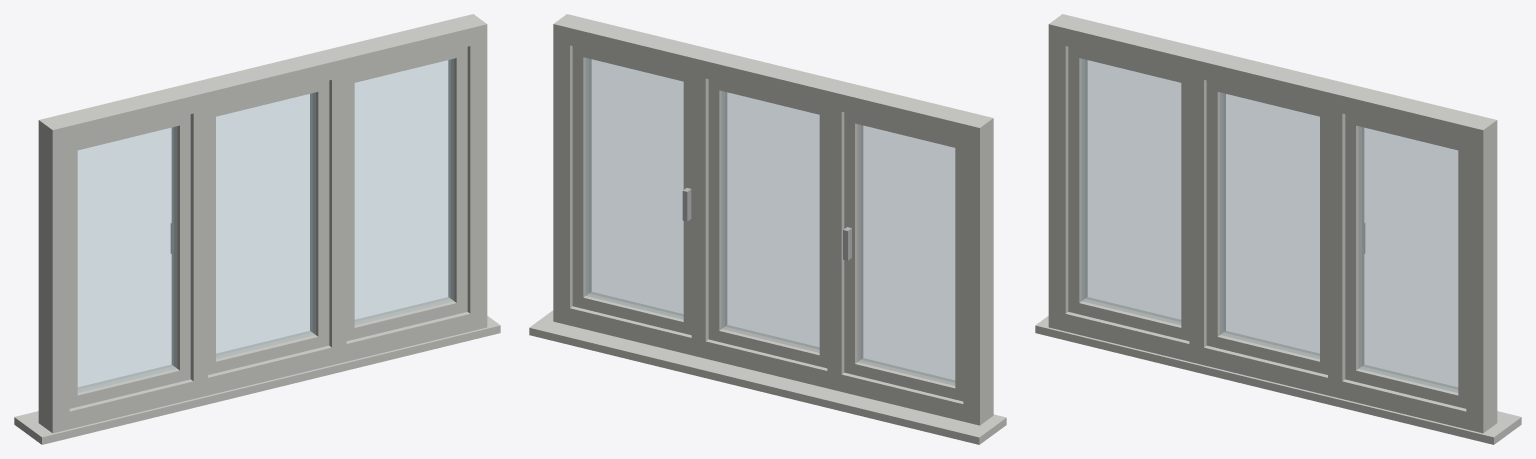
The model's file is opening.window.casement_1800x1200.glb.
3 renders of one model, left to right at view 1: azimuth 30°, elevation 25°; view 2: azimuth 150°, elevation 25°; view 3: azimuth 330°, elevation 25°, orthographic.
Visible parts, largest first — view 1: frame__paint_white, glazing__glass; view 2: frame__paint_white, glazing__glass, ironmongery__steel_stainless; view 3: frame__paint_white, glazing__glass.
Part boxes in pixels (x1=…): frame__paint_white: x1=14, y1=14, x2=500, y2=444; glazing__glass: x1=78, y1=59, x2=453, y2=392; frame__paint_white: x1=529, y1=14, x2=1006, y2=444; glazing__glass: x1=586, y1=58, x2=954, y2=385; ironmongery__steel_stainless: x1=682, y1=188, x2=851, y2=260; frame__paint_white: x1=1035, y1=14, x2=1521, y2=444; glazing__glass: x1=1082, y1=59, x2=1457, y2=392.
Size of the model in its own units: 1.9 by 1.23 by 0.2.
